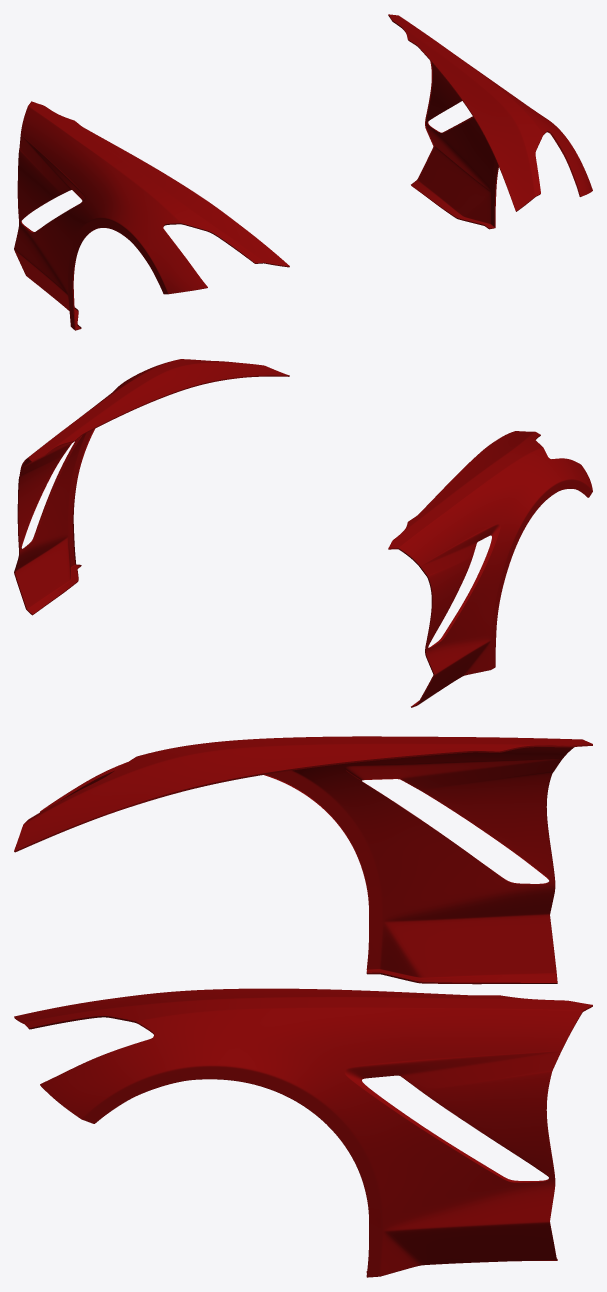
Rendered from c7FRONTFENDERS.glb.
3 renders of one model, top to bottom at view 1: azimuth 30°, elevation 25°; view 2: azimuth 150°, elevation 25°; view 3: azimuth 270°, elevation 25°, orthographic. The views are drawn at different scales.
Parts seen in each view (by area): view 1: Front_Fender_Crysal_Red_0; view 2: Front_Fender_Crysal_Red_0; view 3: Front_Fender_Crysal_Red_0.
Part boxes in pixels (box(x1,y1,x2,y2)): Front_Fender_Crysal_Red_0: box(14, 14, 592, 330); Front_Fender_Crysal_Red_0: box(14, 359, 592, 707); Front_Fender_Crysal_Red_0: box(14, 736, 592, 1277).
Size of the model in its own units: 1.85 by 0.6955 by 1.44.
